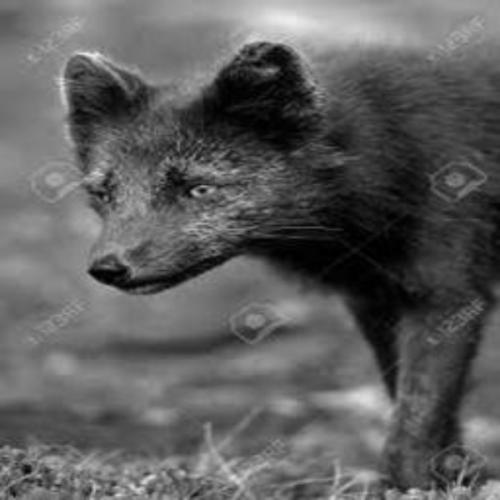arctic_fox-endangered: (60, 29, 500, 477)
